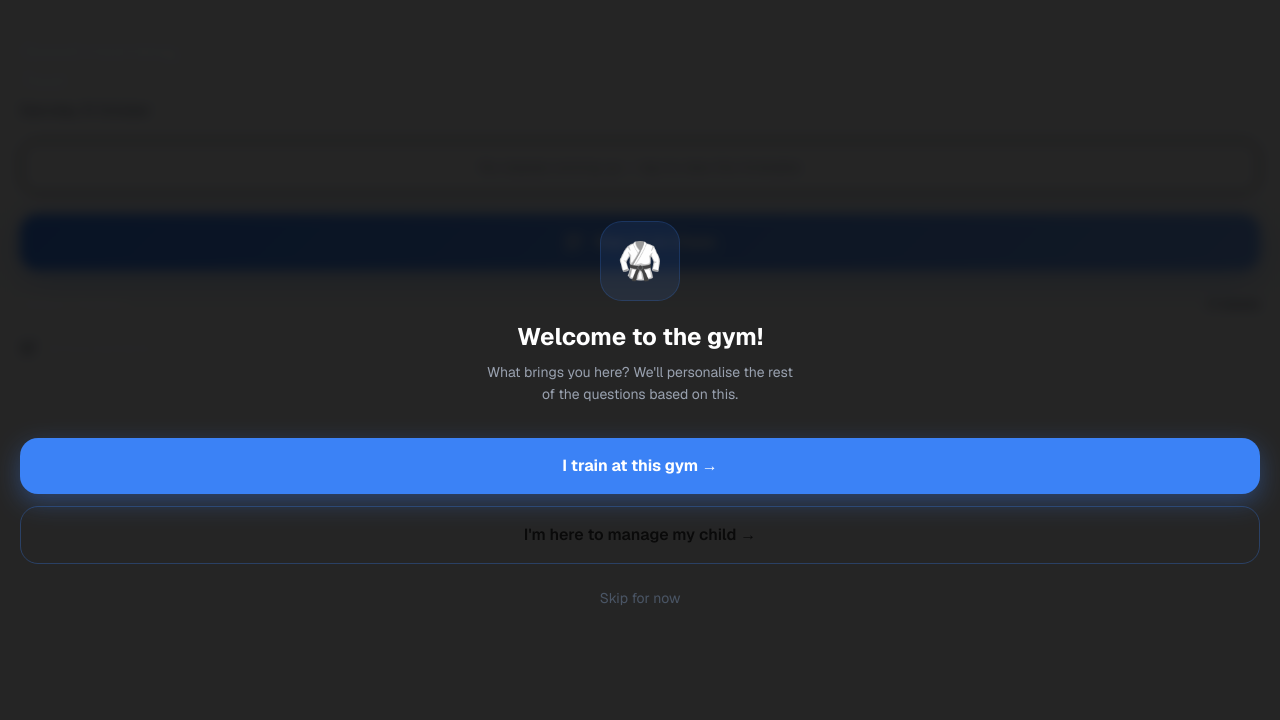
Onboarding parent-only fork (US-1) › Back from kids step in parent mode returns to Step 0 fork (not Step 4)
Click the button with test id "onboarding-i-parent" at (640, 535), box [20, 506, 1260, 564]
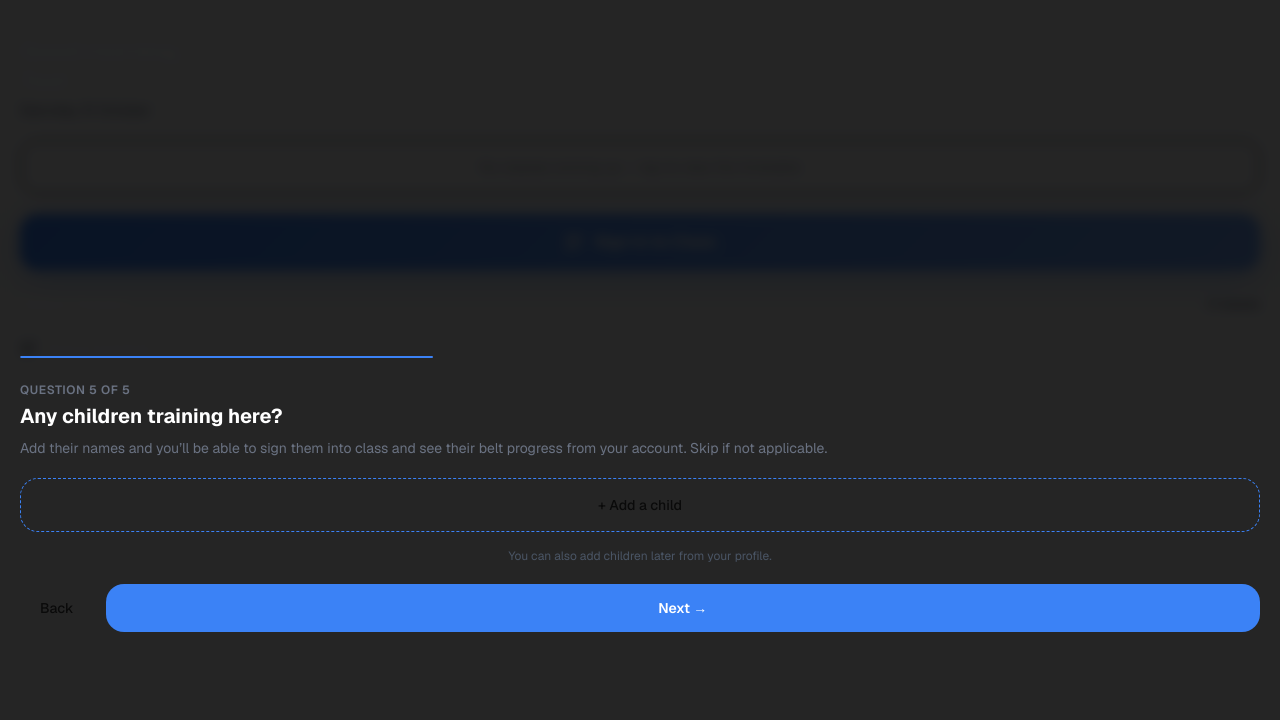
Check: the heading "Any children training here?" is shown, box [20, 403, 283, 429]
Click the button "Back" at (57, 608), box [20, 584, 94, 632]
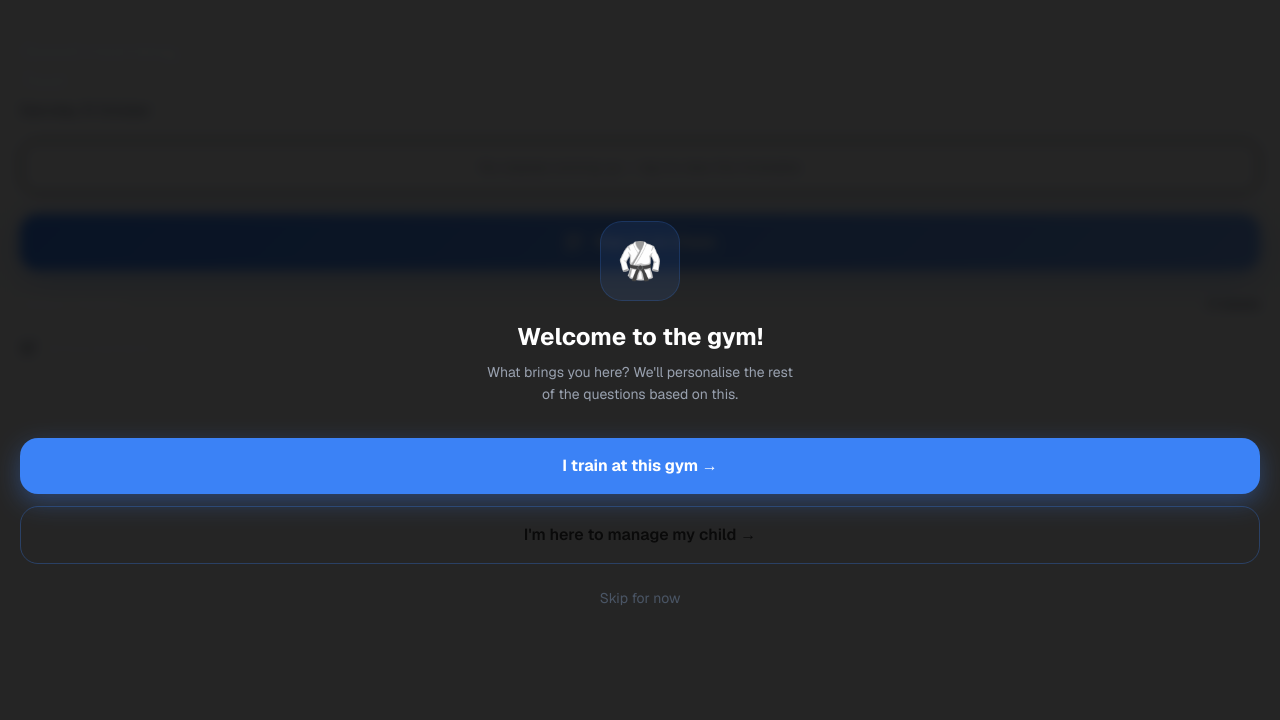
Check: the button with test id "onboarding-i-parent" is shown, box [20, 506, 1260, 564]
